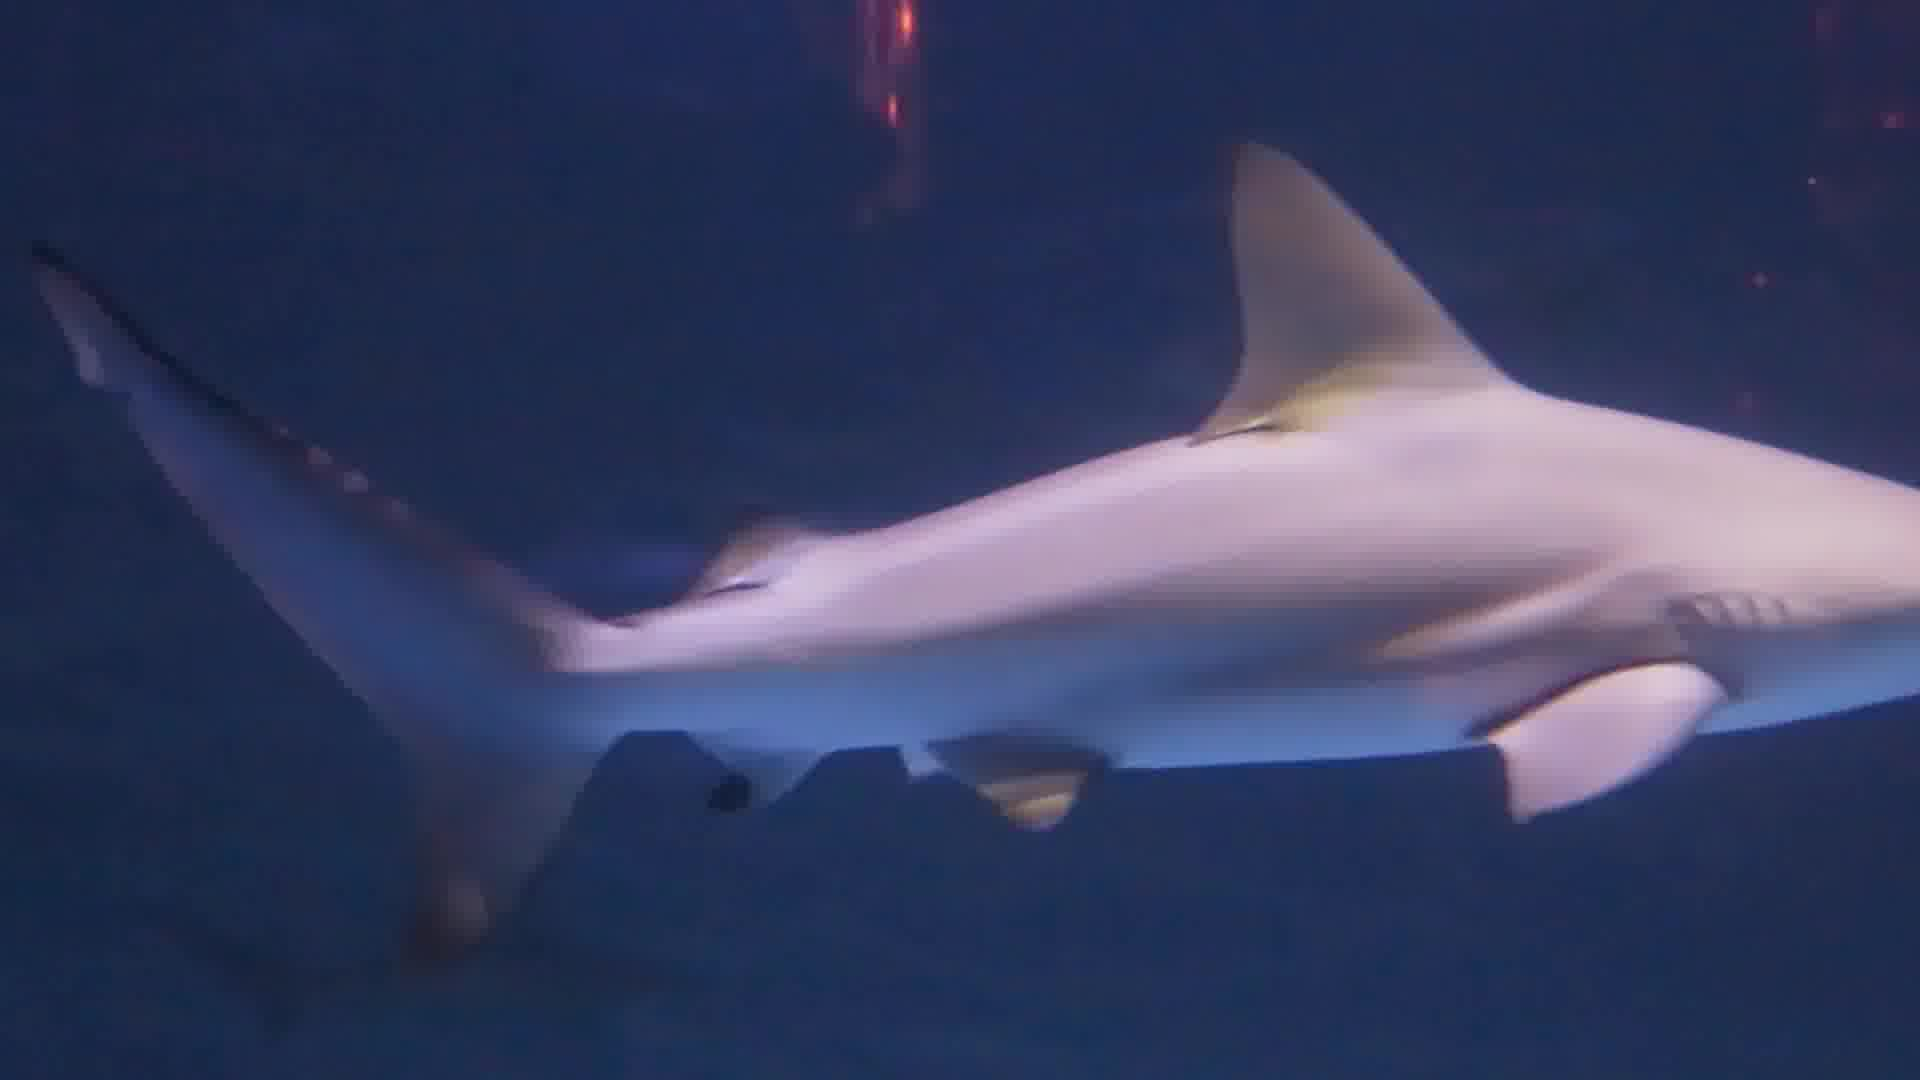Carcharhinus leucas: (69, 131, 1920, 939)
